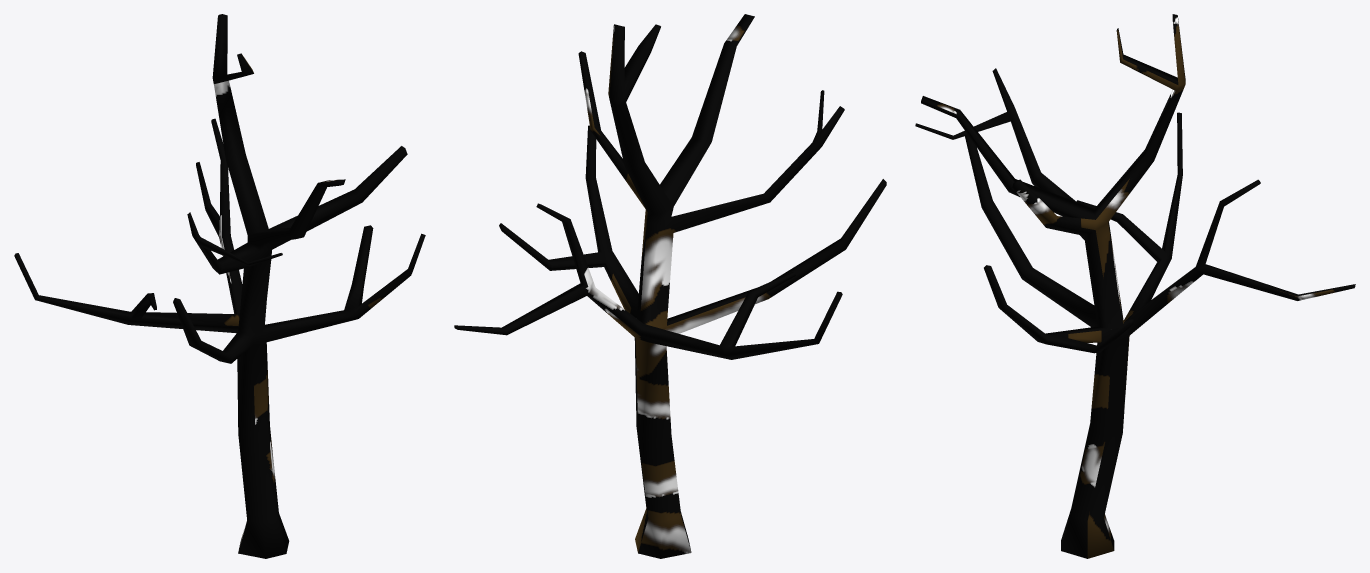
File: tree4_LOD0.fbx
The picture shows the model from 3 angles, left to right: view 1: azimuth 30°, elevation 25°; view 2: azimuth 150°, elevation 25°; view 3: azimuth 270°, elevation 25°; orthographic projection. The views are drawn at different scales.
Visible parts, largest first — view 1: Tree4_LOD0; view 2: Tree4_LOD0; view 3: Tree4_LOD0.
Boxes of the visible parts, left/top/right/bottom form: Tree4_LOD0: left=14, top=14, right=425, bottom=558; Tree4_LOD0: left=454, top=14, right=886, bottom=558; Tree4_LOD0: left=915, top=14, right=1355, bottom=558.
Bounding box in the file's own units: 432 × 618 × 466.
